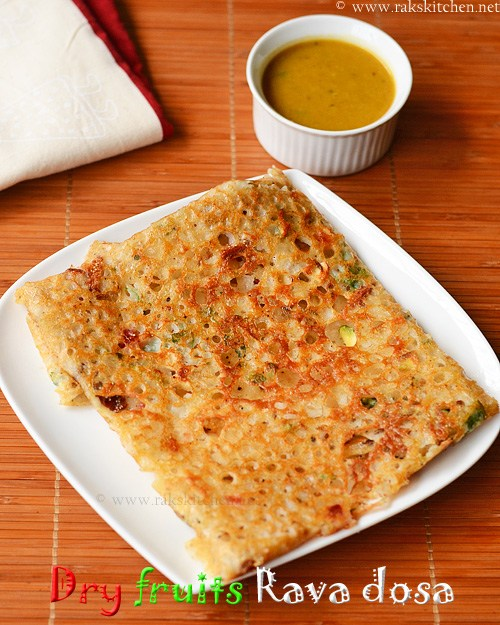dosa: (2, 163, 499, 584)
